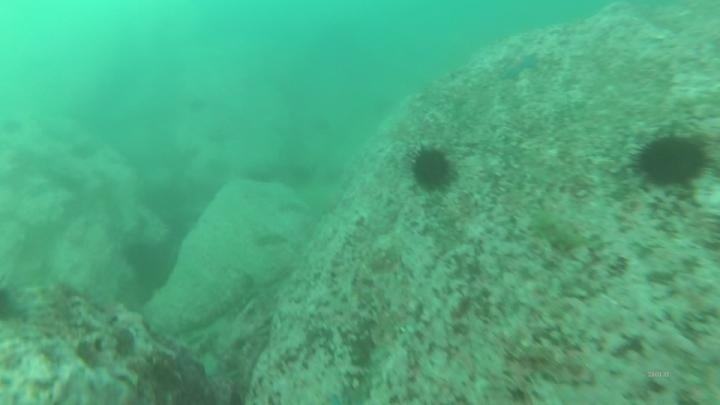echinus: (631, 130, 711, 190), (408, 144, 456, 193)
holothurian: (527, 207, 590, 254)
starfish: (498, 50, 541, 82)
